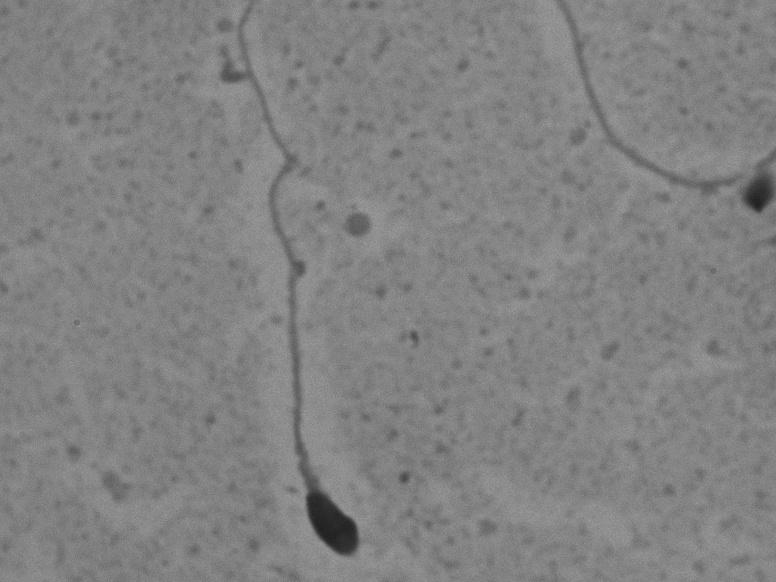Abnormal: (197, 10, 407, 563)
